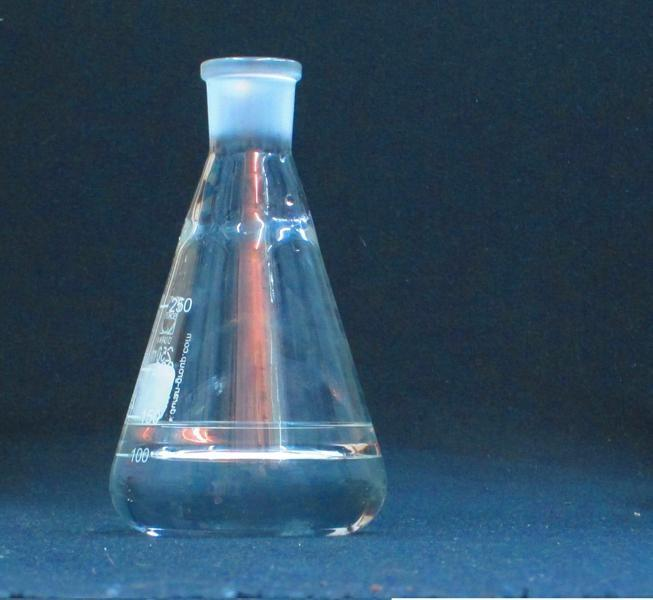Titrarion: (107, 52, 384, 536)
